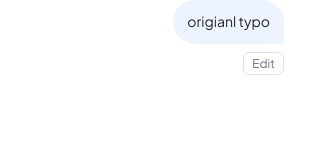
Scenario: ConversationTurn › edits a user message and re-sends the edited text via onEditMessage
Click the button "Edit".
click(264, 63)  # box [243, 52, 284, 75]
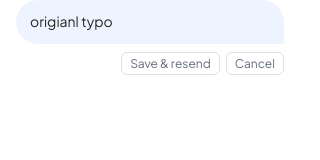
Replace the text in the text box showing "origianl typo" with "original, fixed" at [150, 22], box [30, 10, 270, 34]
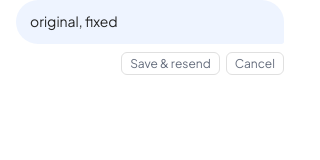
Click the button "Save & resend".
click(170, 64)  # box [121, 52, 220, 75]
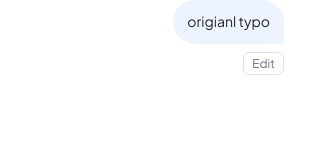
Result: the button "Save & resend" is gone
